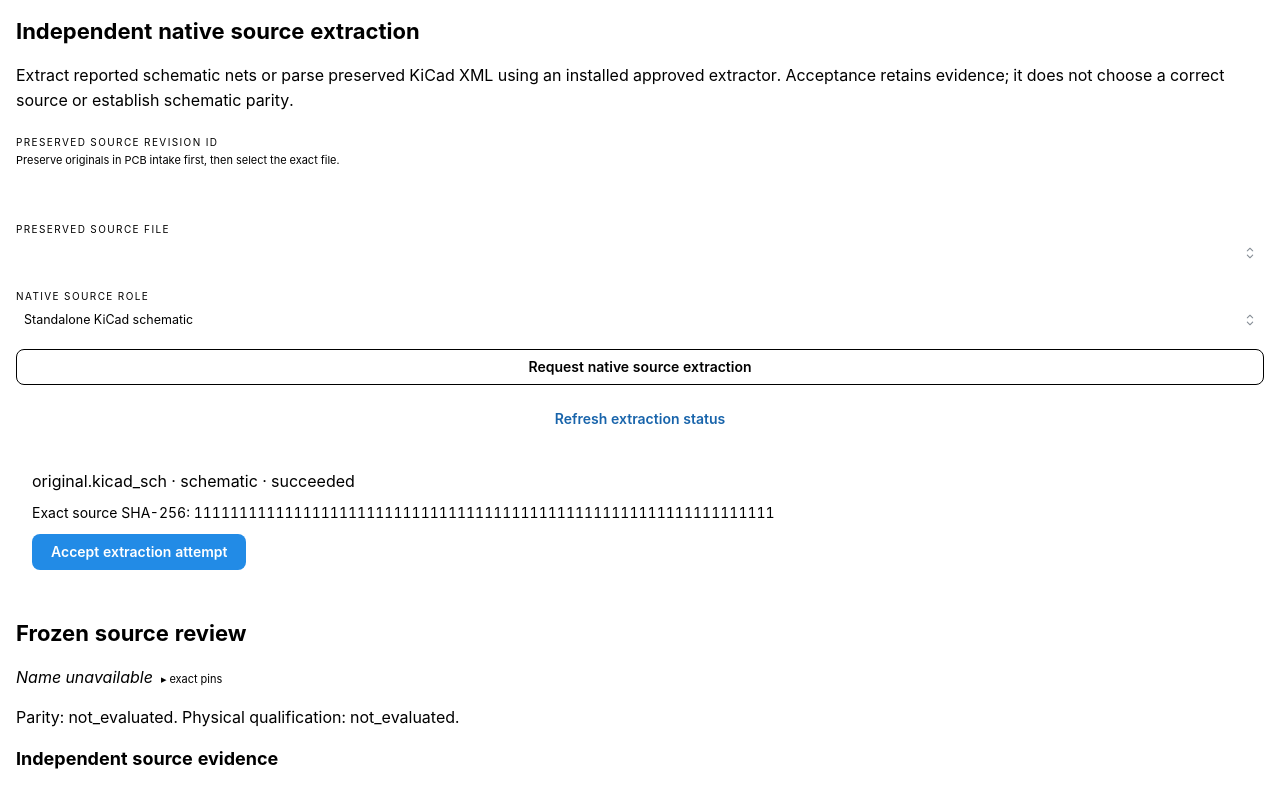
Scenario: native mutation denial revalidates a frozen comparison that retains the same source
Step 1. Click the button "Accept extraction attempt" → (139, 552), box [32,534,246,570]
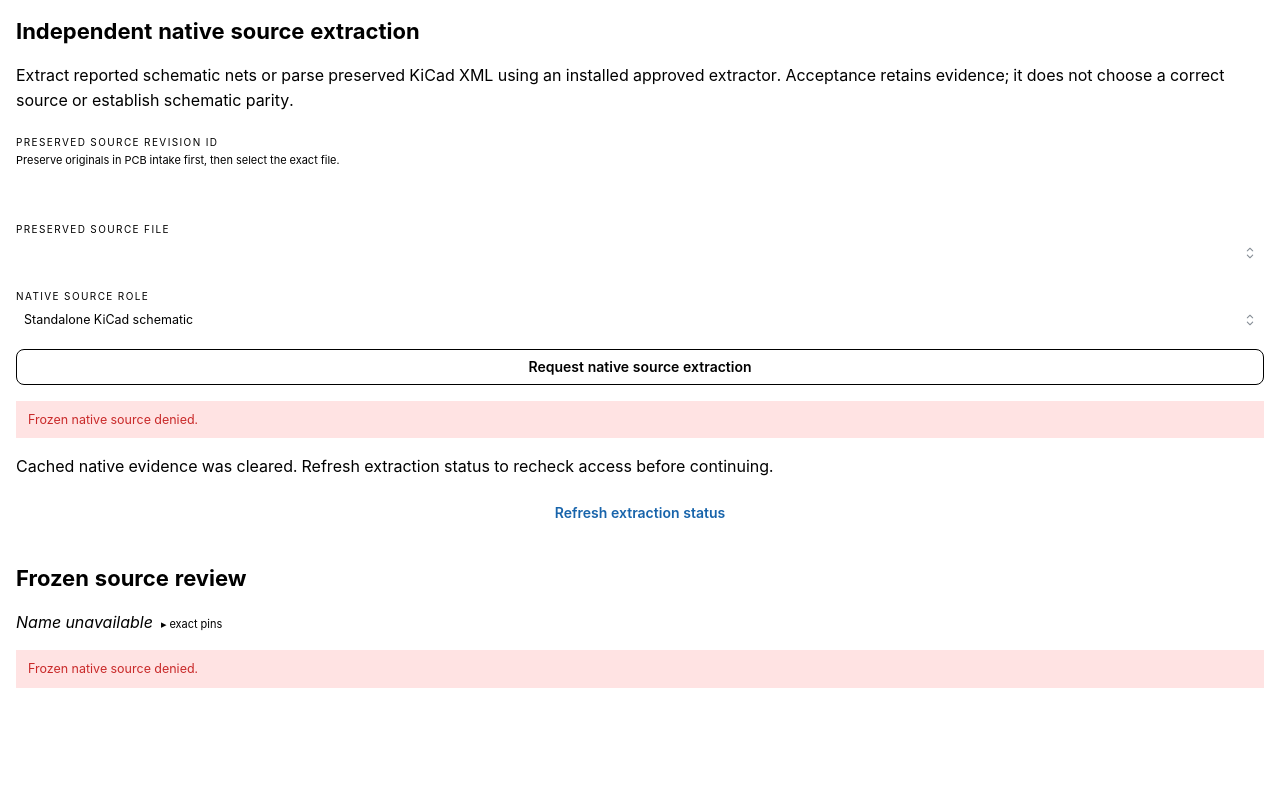
Result: the text "Frozen native source denied." is shown 2 times at [28,412,198,427]; [28,661,198,676]
